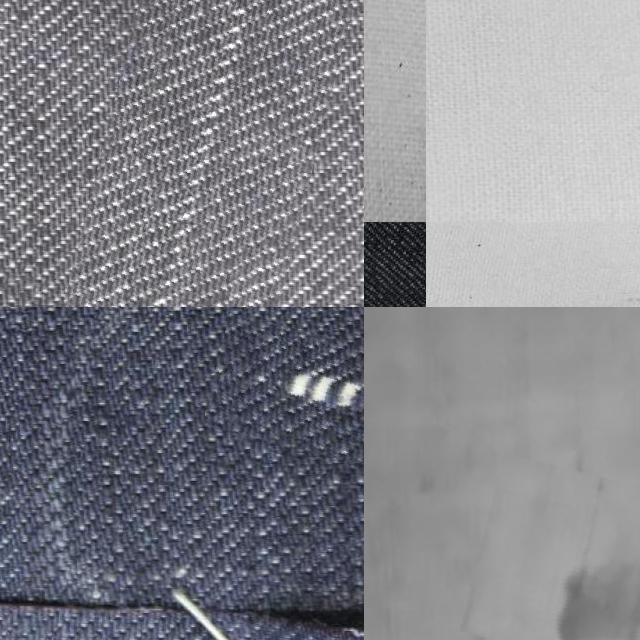Thread_other: (469, 463, 640, 640)
stains: (82, 0, 364, 307), (207, 323, 364, 461)
